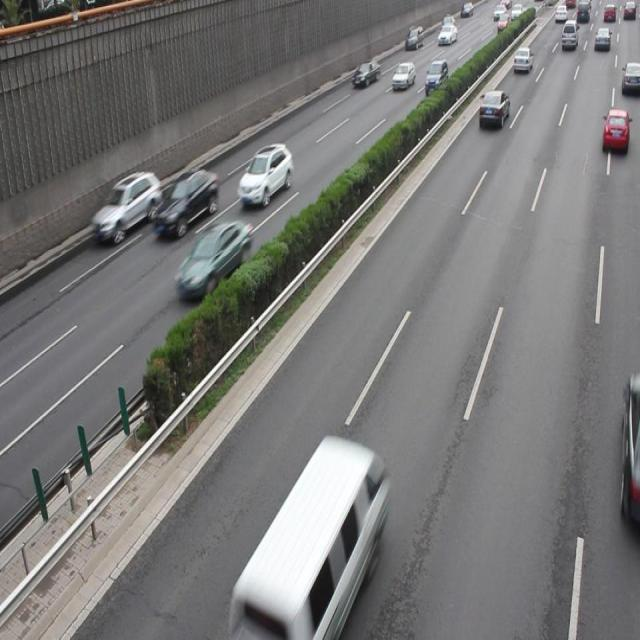car: (175, 222, 252, 300), (149, 166, 218, 242), (92, 169, 162, 243), (236, 142, 293, 206), (621, 374, 640, 529), (476, 88, 509, 131), (601, 107, 628, 154)
truck: (237, 436, 389, 640)
